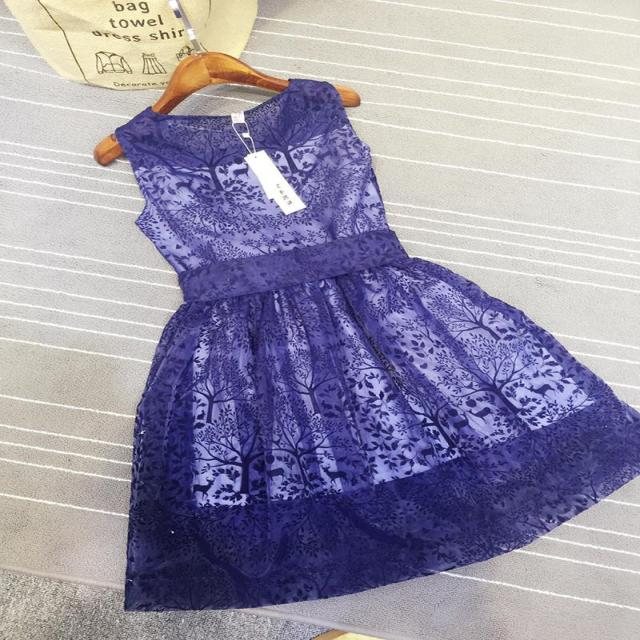vest dress: (117, 79, 639, 613)
